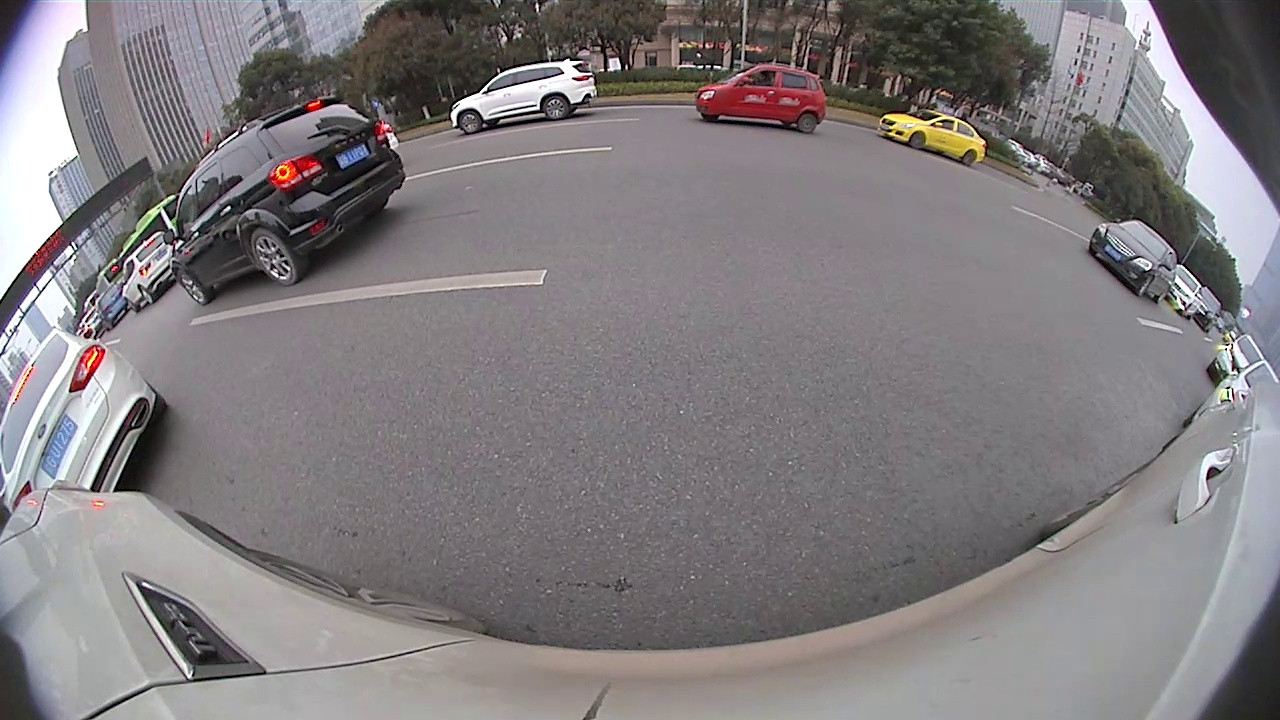car: (174, 93, 407, 303), (4, 331, 165, 512), (448, 57, 598, 138), (697, 61, 831, 134), (1087, 215, 1177, 303), (878, 106, 989, 172)
front: (174, 267, 208, 307), (458, 111, 483, 135), (908, 134, 924, 150)
rear: (248, 227, 302, 288), (541, 93, 570, 119), (798, 111, 817, 135), (962, 150, 977, 163)
